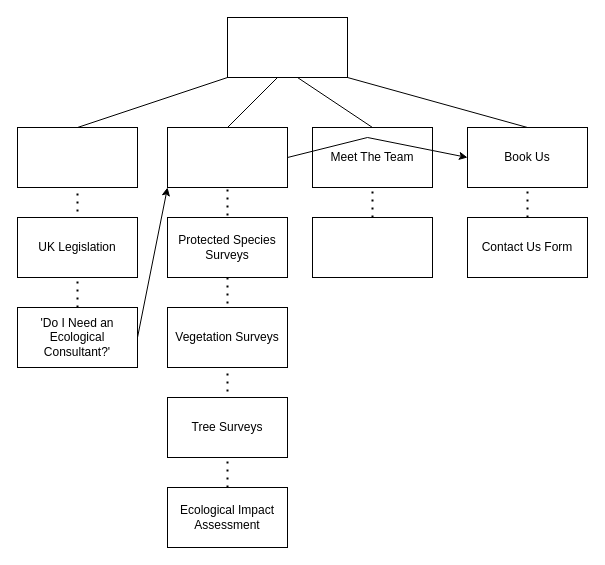
The diagram is 605 pixels wide and 565 high, and some of its shapes have lost their labels. The shapes that lost their labels are listed below. From the top down, each one's box as (x1, y1, x2, y2) in pixels, then its label:
(226, 16, 348, 78): Home Page
(16, 126, 138, 188): When Ecology Services Are Needed
(166, 126, 288, 188): Ecology Services
(312, 216, 432, 278): Team Members
